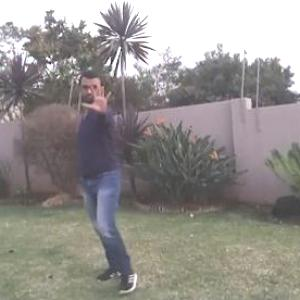follow_hand: (80, 80, 116, 113)
